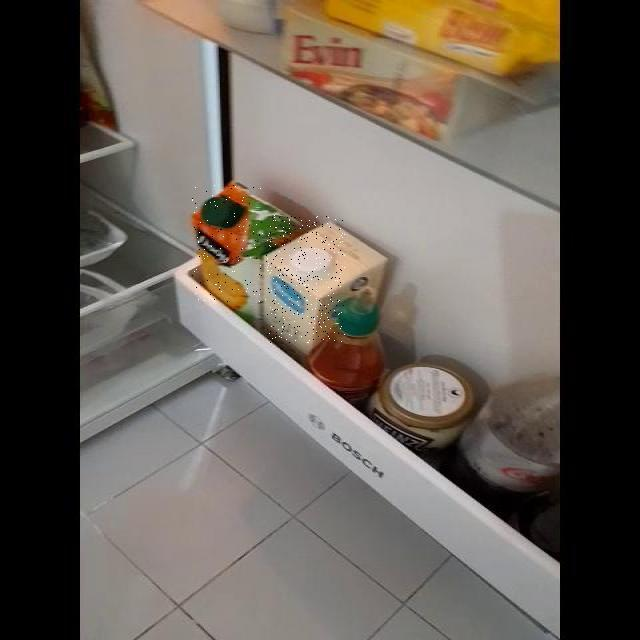juice: (192, 185, 263, 302)
milk: (265, 215, 345, 343)
